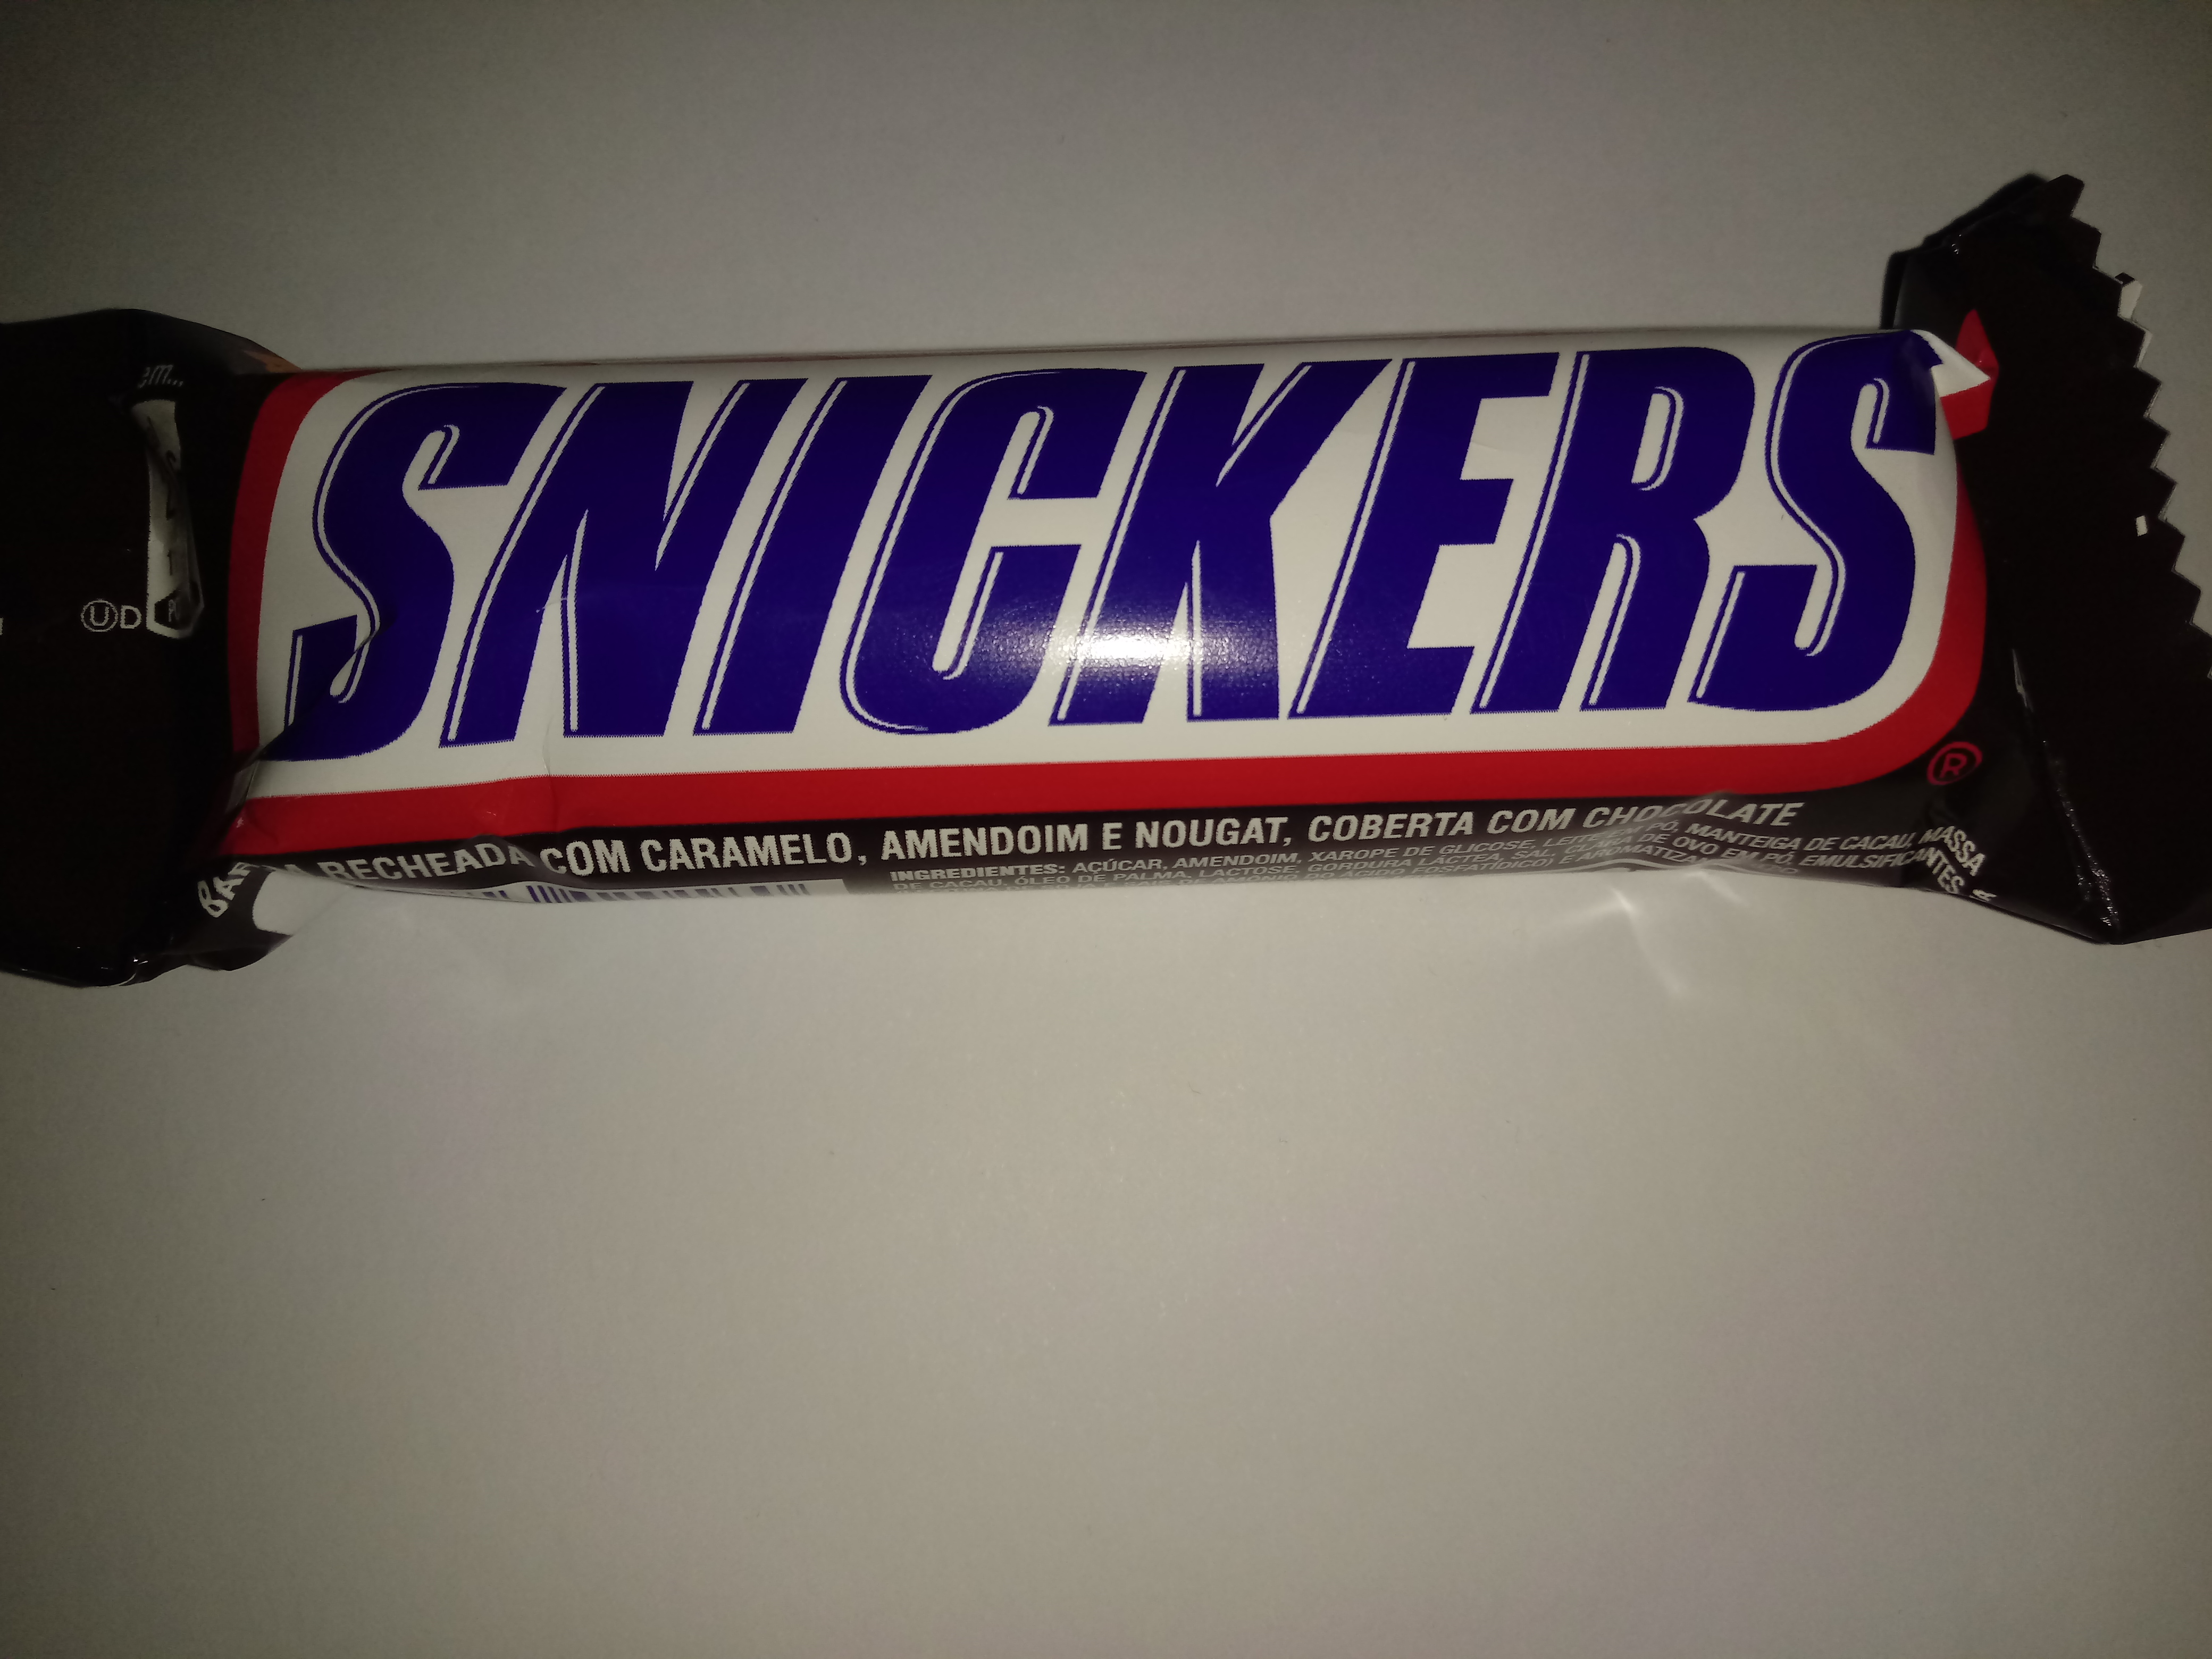snickers: (9, 159, 2212, 999)
